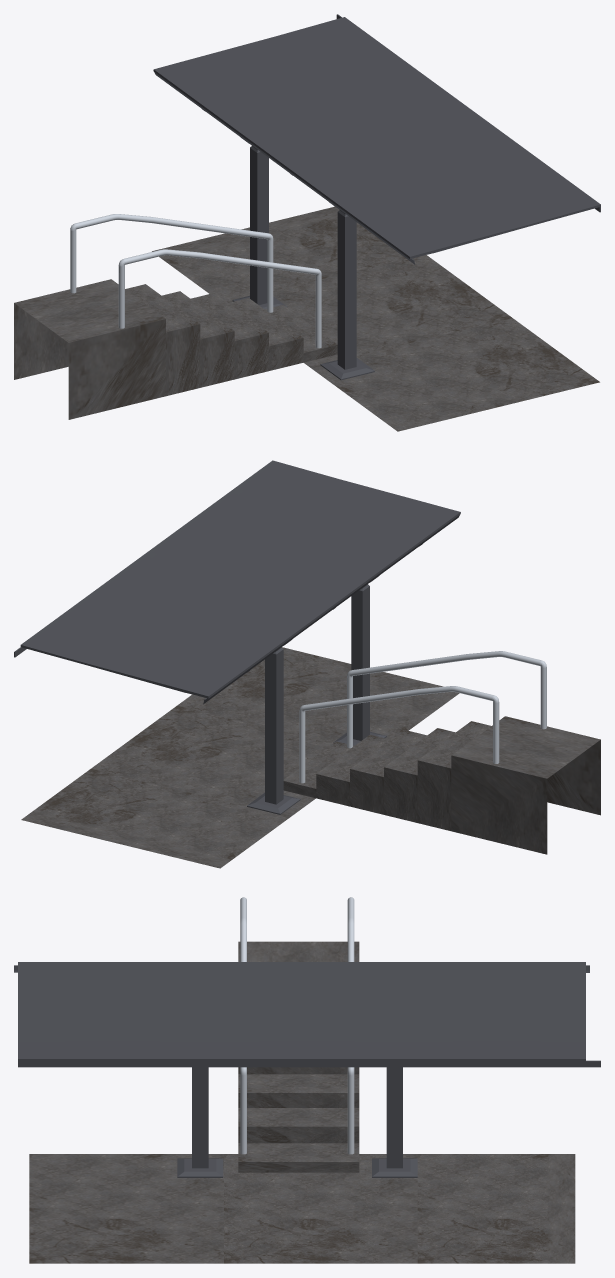
The model's file is ShelterWalkWayWithStairs.fbx.
3 views of the same model, one above another, from view 1: azimuth 30°, elevation 25°; view 2: azimuth 150°, elevation 25°; view 3: azimuth 270°, elevation 25° (orthographic). The views are drawn at different scales.
Visible parts, largest first — view 1: Rooftop (×3), Floor (×3), Stairstep5, Pillar (×2), Railing (×2), Stairstep4, Stairstep3, Stairstep2, Stairstep, Stairstep1; view 2: Rooftop (×3), Floor (×3), Stairstep5, Pillar (×2), Railing (×2), Stairstep4, Stairstep3, Stairstep2, Stairstep, Stairstep1; view 3: Rooftop (×3), Floor (×3), Pillar (×2), PillarEndEdge (×3), Stairstep, Stairstep2, Stairstep1, Stairstep5, Railing (×2), Stairstep3.
Boxes of the visible parts, box(x1,y1,x2,y2) form: Rooftop (×3): box(153, 17, 600, 258); Floor (×3): box(152, 206, 599, 431); Stairstep5: box(14, 279, 165, 419); Pillar (×2): box(232, 137, 374, 380); Railing (×2): box(70, 214, 321, 348); Stairstep4: box(125, 284, 200, 396); Stairstep3: box(162, 291, 234, 387); Stairstep2: box(191, 293, 268, 379); Stairstep: box(229, 298, 303, 370); Stairstep1: box(265, 305, 337, 362); Rooftop (×3): box(20, 460, 460, 698); Floor (×3): box(21, 647, 459, 868); Stairstep5: box(451, 716, 600, 854); Pillar (×2): box(247, 575, 386, 814); Railing (×2): box(299, 651, 546, 783); Stairstep4: box(417, 721, 491, 830); Stairstep3: box(384, 728, 455, 822); Stairstep2: box(350, 729, 426, 814); Stairstep: box(316, 734, 389, 806); Stairstep1: box(283, 741, 353, 798); Rooftop (×3): box(18, 962, 585, 1061); Floor (×3): box(29, 1154, 575, 1263); Pillar (×2): box(177, 1067, 417, 1177); PillarEndEdge (×3): box(18, 1060, 600, 1067); Stairstep: box(238, 1108, 359, 1143); Stairstep2: box(238, 1074, 359, 1107); Stairstep1: box(238, 1143, 359, 1172); Stairstep5: box(238, 941, 359, 961); Railing (×2): box(240, 897, 354, 1154); Stairstep3: box(238, 1067, 359, 1074).
Size of the model in its own units: 682 by 272 by 715.
Materials: 2 (2 with a texture image).
